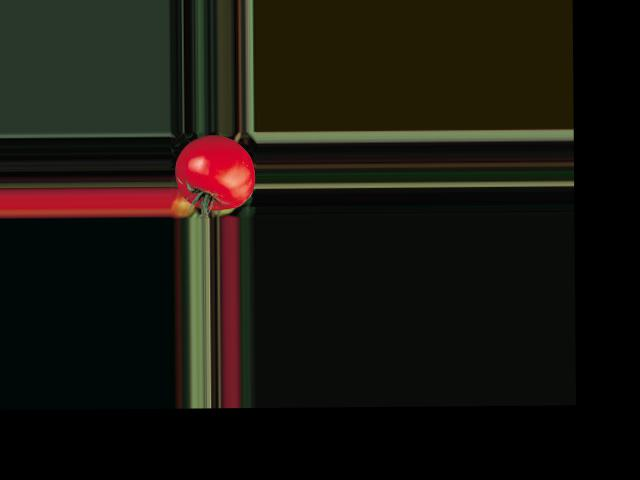tomato: (176, 134, 255, 210)
